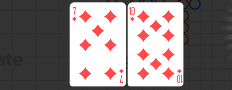10D: (128, 5, 135, 22)
7D: (71, 6, 77, 22)
